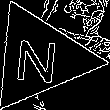N_N: (16, 31, 64, 85)
